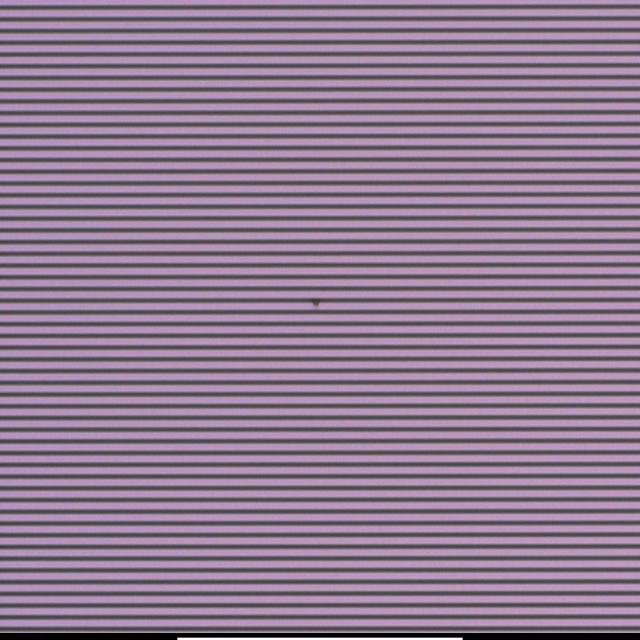03_intrusion: (309, 295, 321, 311)
